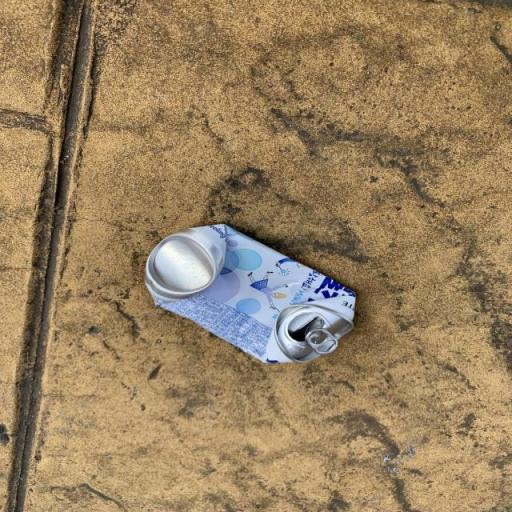metal: (132, 218, 369, 396)
